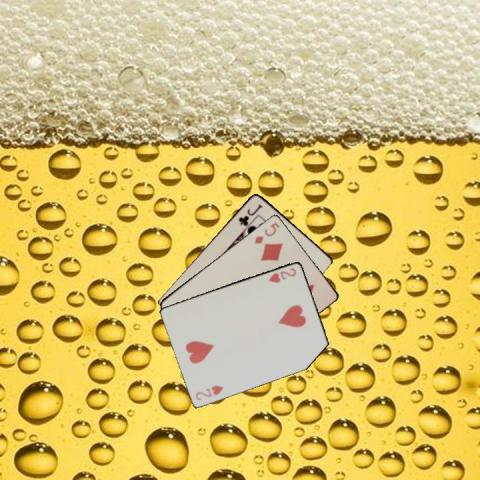2h: (266, 265, 298, 284), (192, 382, 224, 401)
5d: (252, 219, 282, 245)
Jc: (235, 200, 263, 226)
